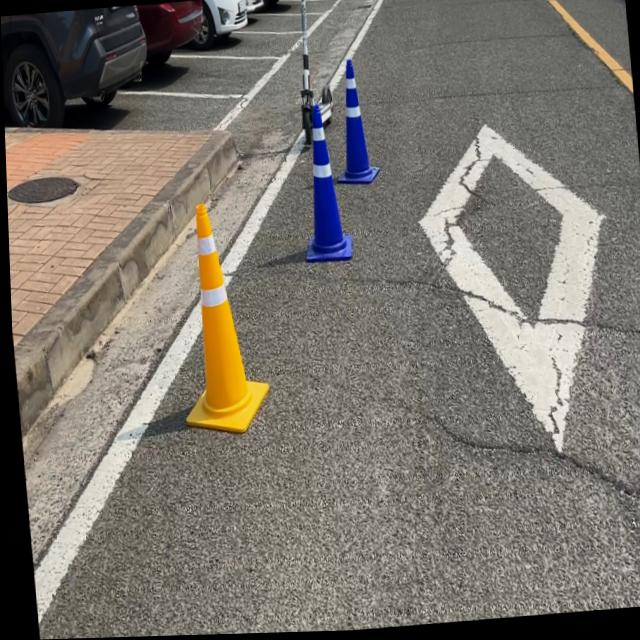b_rub: (305, 104, 351, 263), (337, 58, 379, 185)
y_rub: (183, 204, 265, 434)
